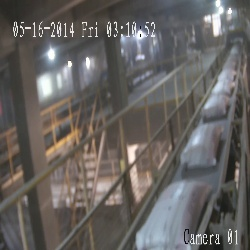cementbag: (135, 180, 208, 249), (181, 124, 222, 167), (202, 93, 228, 117), (211, 80, 234, 93), (218, 69, 235, 80)
